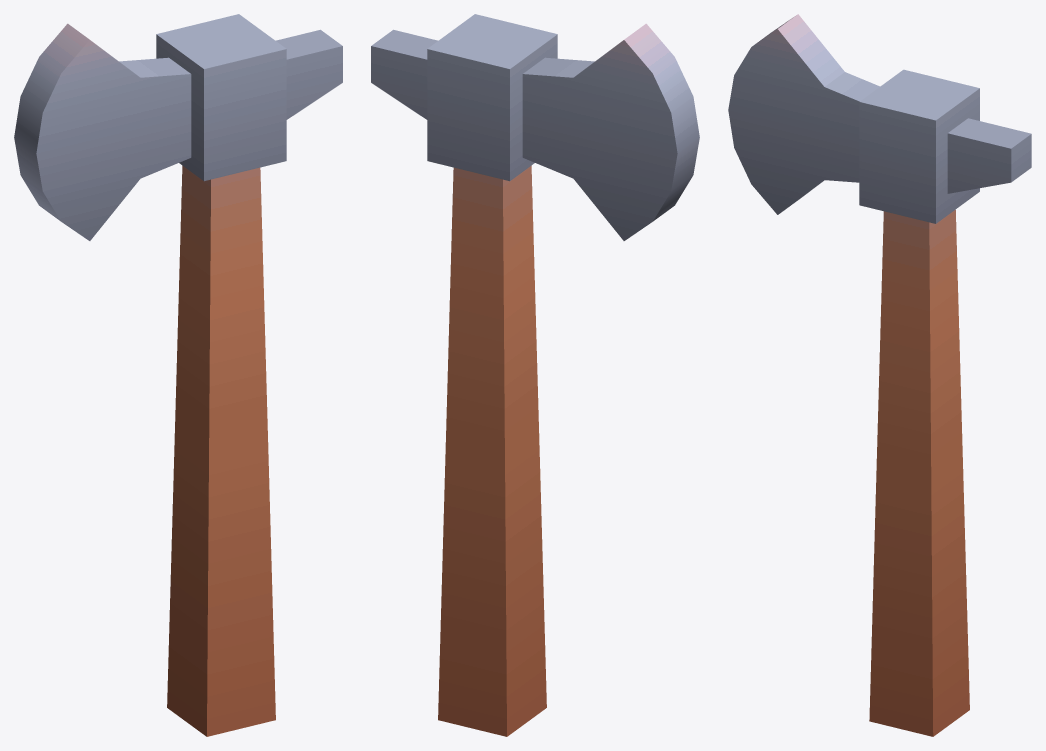
Rendered from tool-axe.glb.
The picture shows the model from 3 angles, left to right: view 1: azimuth 30°, elevation 25°; view 2: azimuth 150°, elevation 25°; view 3: azimuth 330°, elevation 25°; orthographic projection. The views are drawn at different scales.
Parts seen in each view (by area): view 1: tool-axe; view 2: tool-axe; view 3: tool-axe.
Boxes of the visible parts, x1,y1,x2,y2 form: tool-axe: (14,14,342,736); tool-axe: (371,14,699,736); tool-axe: (728,14,1031,736).
Size of the model in its own units: 0.1145 by 0.256 by 0.0309.
1 material, 1 textured.
